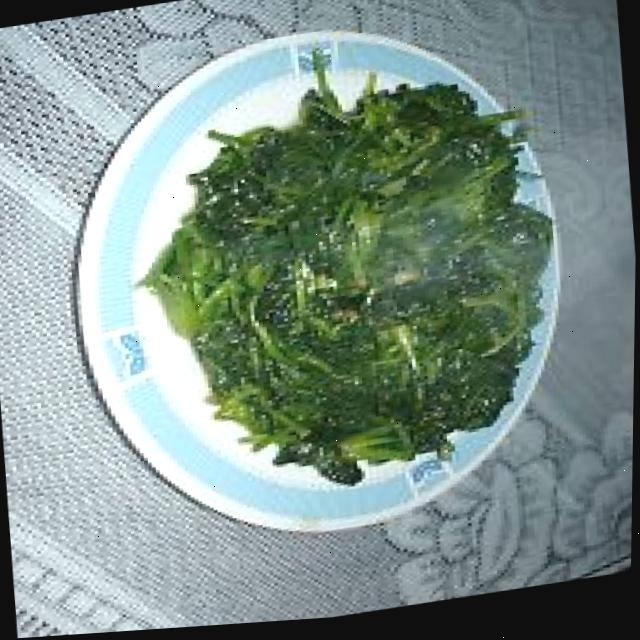蔬菜料理: (72, 0, 606, 577)
